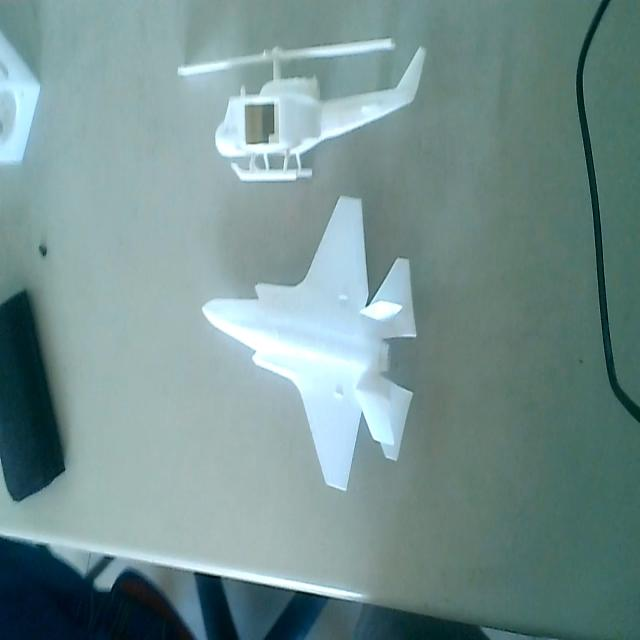Helicopter: (173, 35, 429, 184)
Jet: (203, 190, 418, 498)
